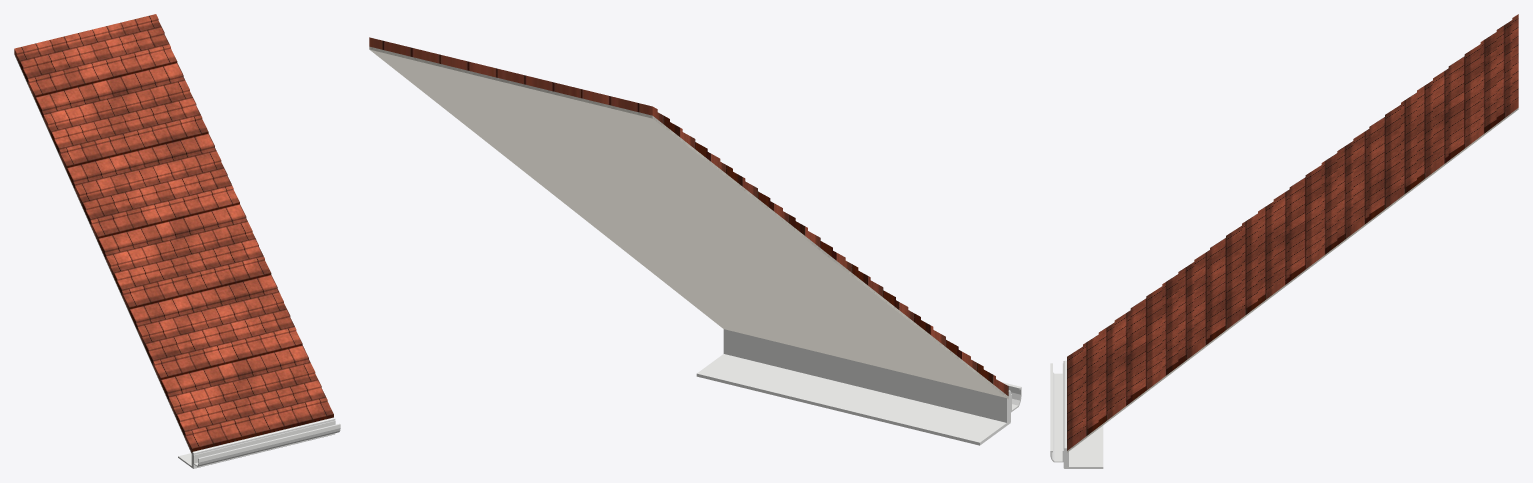
Rendered from roof_eave.glb.
3 views of the same model, side by side, from view 1: azimuth 30°, elevation 25°; view 2: azimuth 150°, elevation 25°; view 3: azimuth 270°, elevation 25° (orthographic). The views are drawn at different scales.
Parts seen in each view (by area): view 1: roof_eave_shingles, roof_eave_gutter, roof_eave_trim, roof_eave_plaster; view 2: roof_eave_plaster, roof_eave_trim, roof_eave_shingles; view 3: roof_eave_shingles, roof_eave_trim, roof_eave_gutter, roof_eave_plaster.
Part boxes in pixels (x1,y1,x2,y2): roof_eave_shingles: [14, 14, 333, 453]; roof_eave_gutter: [193, 420, 340, 466]; roof_eave_trim: [178, 417, 335, 468]; roof_eave_plaster: [14, 54, 192, 454]; roof_eave_plaster: [369, 46, 1008, 399]; roof_eave_trim: [696, 329, 1010, 445]; roof_eave_shingles: [369, 37, 1008, 395]; roof_eave_shingles: [1067, 14, 1518, 450]; roof_eave_trim: [1063, 360, 1103, 468]; roof_eave_gutter: [1050, 363, 1063, 462]; roof_eave_plaster: [1067, 108, 1518, 452].
Size of the model in its own units: 2 by 3.9 by 4.51.
4 materials, 2 textured.
